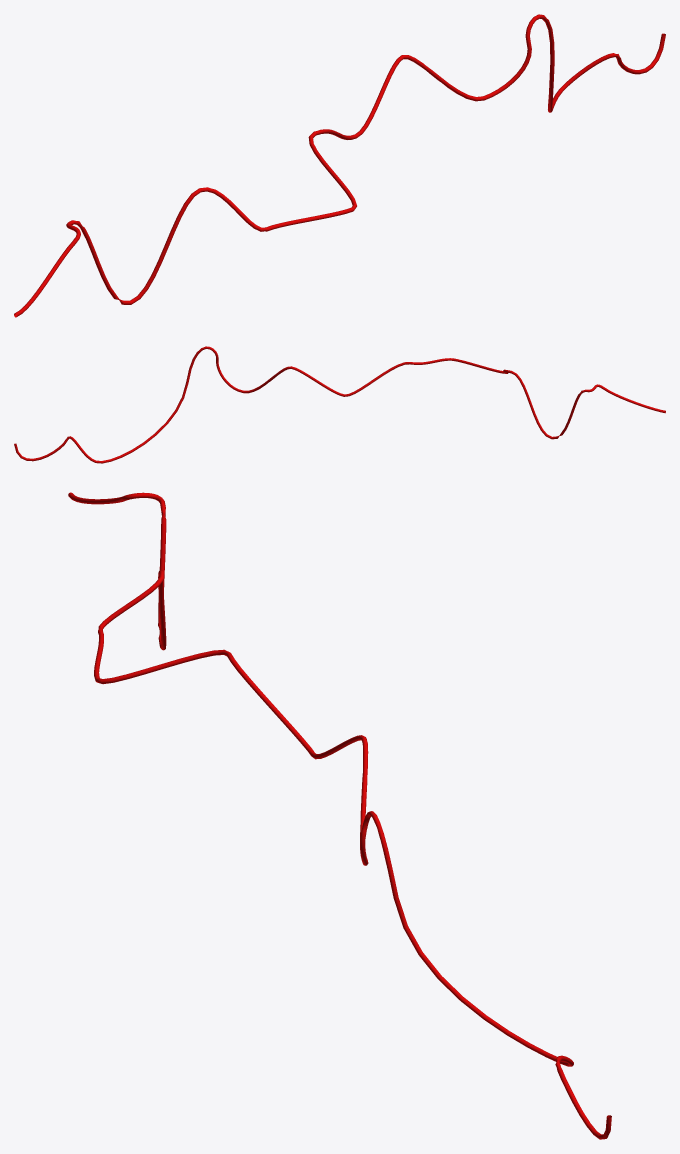
File: Attic_Cable_01_LP_Splines_6.glb
The picture shows the model from 3 angles, top to bottom: view 1: azimuth 30°, elevation 25°; view 2: azimuth 150°, elevation 25°; view 3: azimuth 270°, elevation 25°; orthographic projection. The views are drawn at different scales.
Parts seen in each view (by area): view 1: Attic_Cable_01_LP_Splines_6; view 2: Attic_Cable_01_LP_Splines_6; view 3: Attic_Cable_01_LP_Splines_6.
Boxes of the visible parts, x1,y1,x2,y2 form: Attic_Cable_01_LP_Splines_6: (14, 14, 665, 317); Attic_Cable_01_LP_Splines_6: (14, 346, 665, 463); Attic_Cable_01_LP_Splines_6: (68, 492, 611, 1139).
Bounding box in the file's own units: 9.04 × 1.72 × 4.12.
